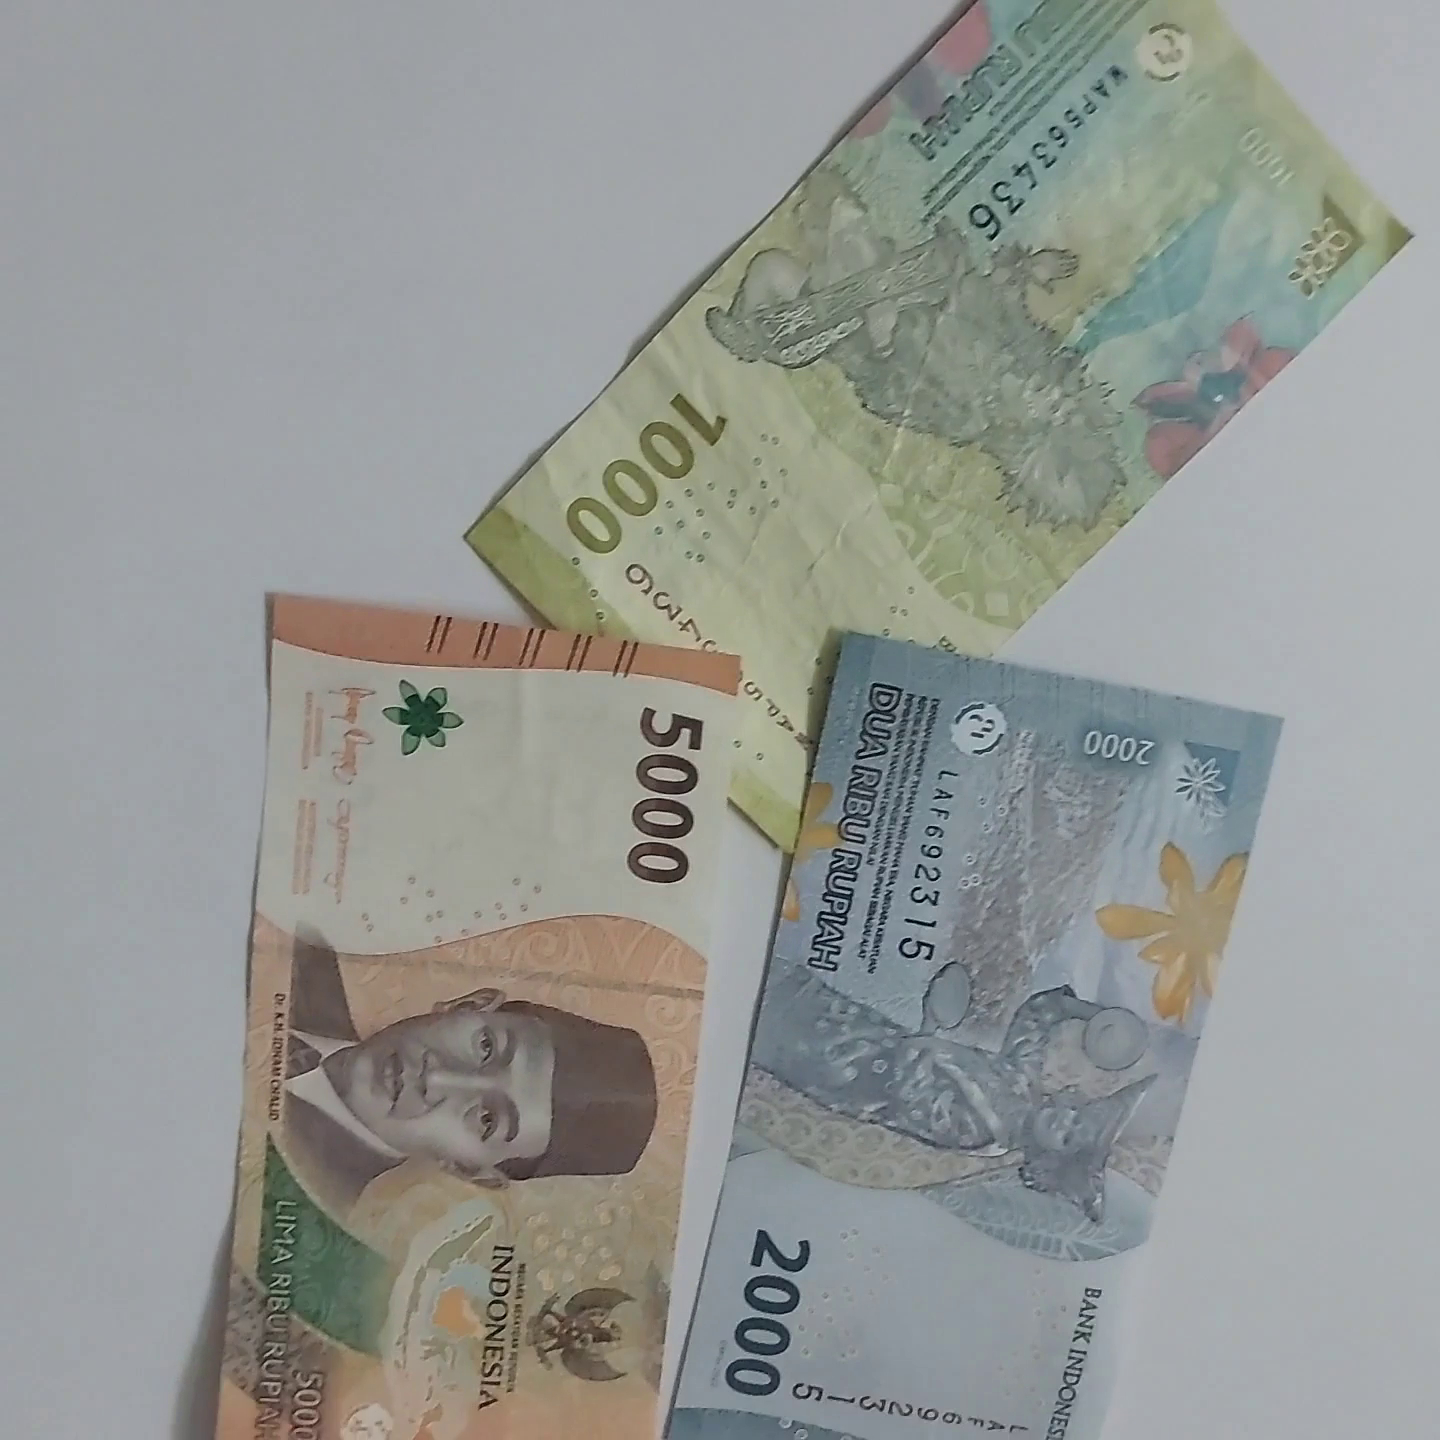1k: (434, 0, 1403, 855)
2k: (678, 640, 1296, 1440)
5k: (216, 546, 735, 1440)
